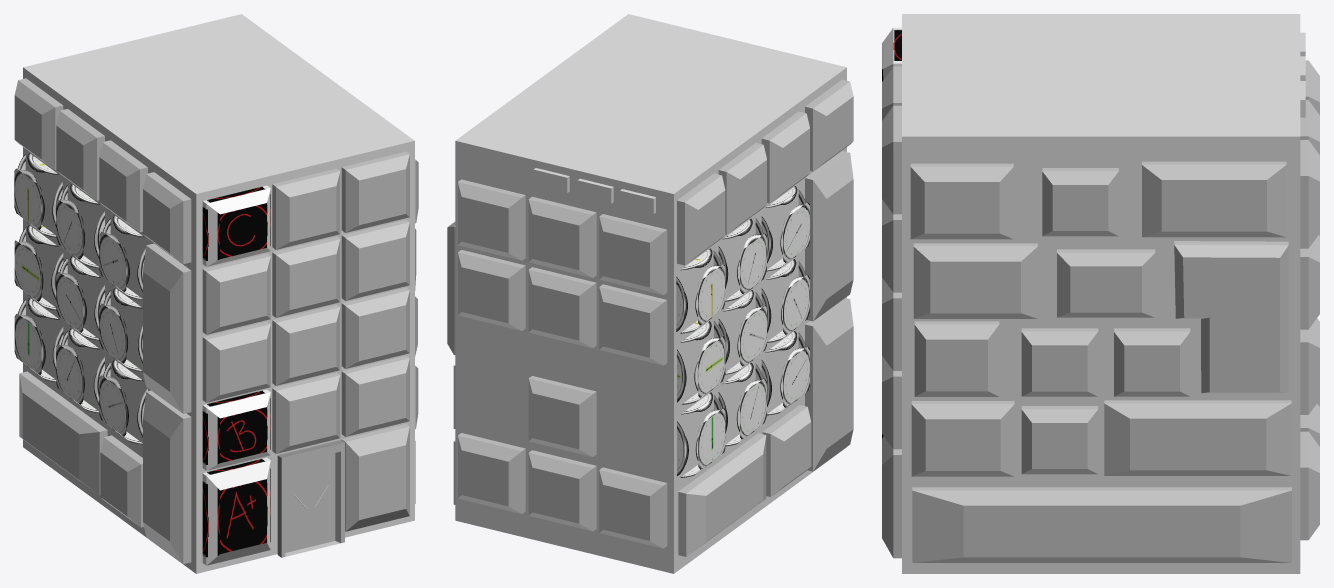
The model's file is Computing Building.FBX.
3 renders of one model, left to right at view 1: azimuth 30°, elevation 25°; view 2: azimuth 150°, elevation 25°; view 3: azimuth 270°, elevation 25°, orthographic. The views are drawn at different scales.
Parts seen in each view (by area): view 1: Box001, Box021, Box020, Box058, Box014, Box015, Box022, Box008, Box005, Box002, Box011, Box006 (+21 smaller); view 2: Box001, Box020, Box021, Box022, Box035, Box033, Box034, Box036, Box038, Box040, Box041, Box026 (+20 smaller); view 3: Box001, Box049, Line001, Box051, Box050, Box046, Box045, Box048, Box055, Box047, Box053, Box052 (+15 smaller).
Part boxes in pixels (<box>): Box001: <box>23,14,414,573</box>; Box021: <box>143,390,191,563</box>; Box020: <box>143,243,191,413</box>; Box058: <box>277,440,344,557</box>; Box014: <box>202,457,270,565</box>; Box015: <box>341,424,409,531</box>; Box022: <box>19,371,107,495</box>; Box008: <box>202,321,270,402</box>; Box005: <box>202,253,270,334</box>; Box002: <box>202,185,270,266</box>; Box011: <box>202,389,270,470</box>; Box006: <box>272,236,340,317</box>; Box001: <box>455,14,846,573</box>; Box020: <box>805,151,853,321</box>; Box021: <box>805,298,853,471</box>; Box022: <box>678,433,766,556</box>; Box035: <box>599,284,667,365</box>; Box033: <box>528,196,596,277</box>; Box034: <box>599,214,667,295</box>; Box036: <box>528,267,596,348</box>; Box038: <box>528,376,596,456</box>; Box040: <box>528,450,596,531</box>; Box041: <box>599,467,667,548</box>; Box026: <box>458,179,525,260</box>; Box001: <box>902,14,1300,573</box>; Box049: <box>912,487,1291,562</box>; Line001: <box>1174,241,1288,393</box>; Box051: <box>1104,400,1291,475</box>; Box050: <box>1142,161,1286,237</box>; Box046: <box>913,243,1037,318</box>; Box045: <box>910,163,1013,239</box>; Box048: <box>911,401,1014,476</box>; Box055: <box>1057,249,1155,317</box>; Box047: <box>914,321,999,396</box>; Box053: <box>1021,328,1098,396</box>; Box052: <box>1021,406,1098,474</box>.
Size of the model in its own units: 53.57 by 77.24 by 70.1.
